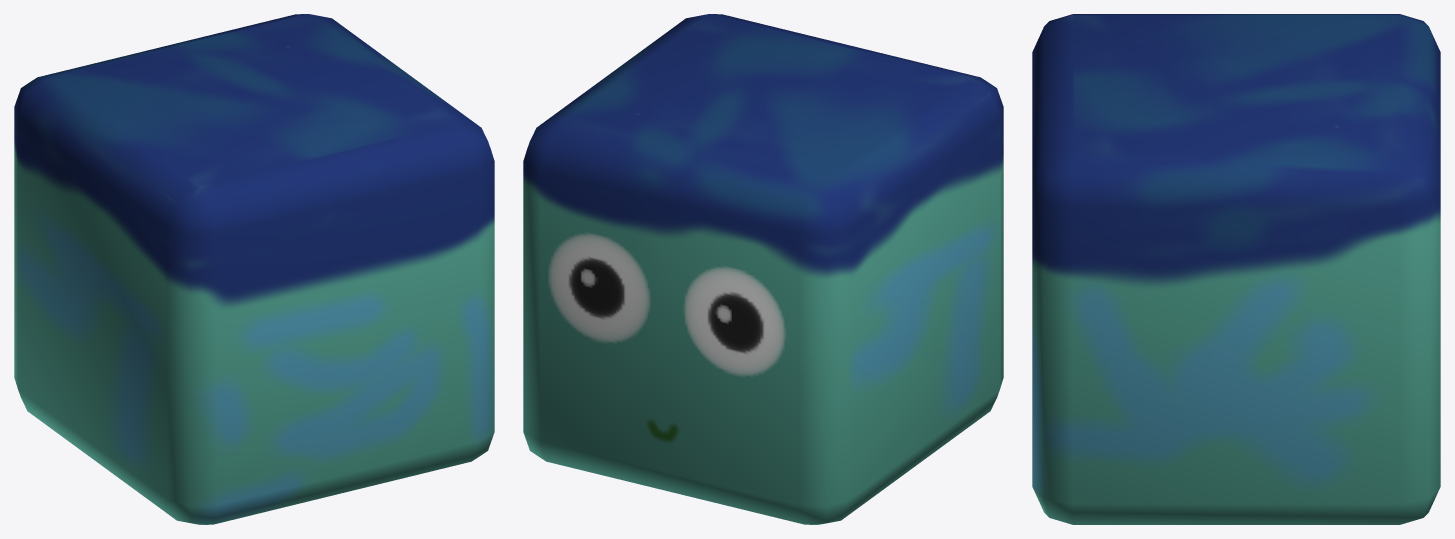
Rendered from player.glb.
3 renders of one model, left to right at view 1: azimuth 30°, elevation 25°; view 2: azimuth 150°, elevation 25°; view 3: azimuth 270°, elevation 25°, orthographic. The views are drawn at different scales.
Parts seen in each view (by area): view 1: Cube; view 2: Cube; view 3: Cube.
Boxes of the visible parts, <box> form: Cube: <box>14,14,494,524</box>; Cube: <box>523,14,1003,524</box>; Cube: <box>1032,14,1440,524</box>.
Size of the model in its own units: 2 by 2 by 2.
Materials: 1 (1 with a texture image).
